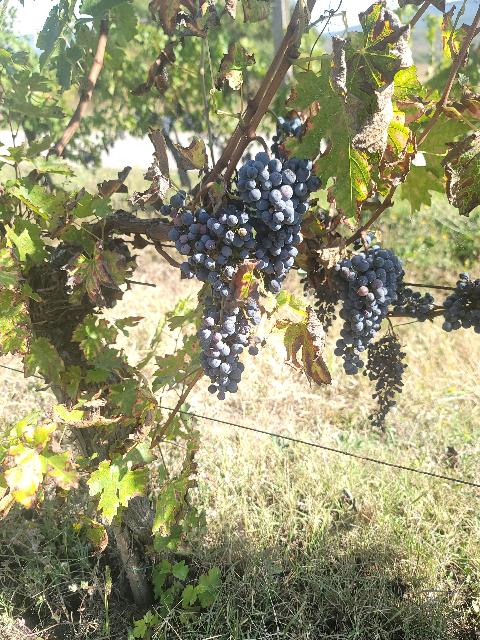grapes: (236, 151, 321, 292), (332, 246, 404, 375), (160, 190, 219, 281), (198, 306, 249, 396), (362, 335, 408, 431), (209, 205, 256, 249)
